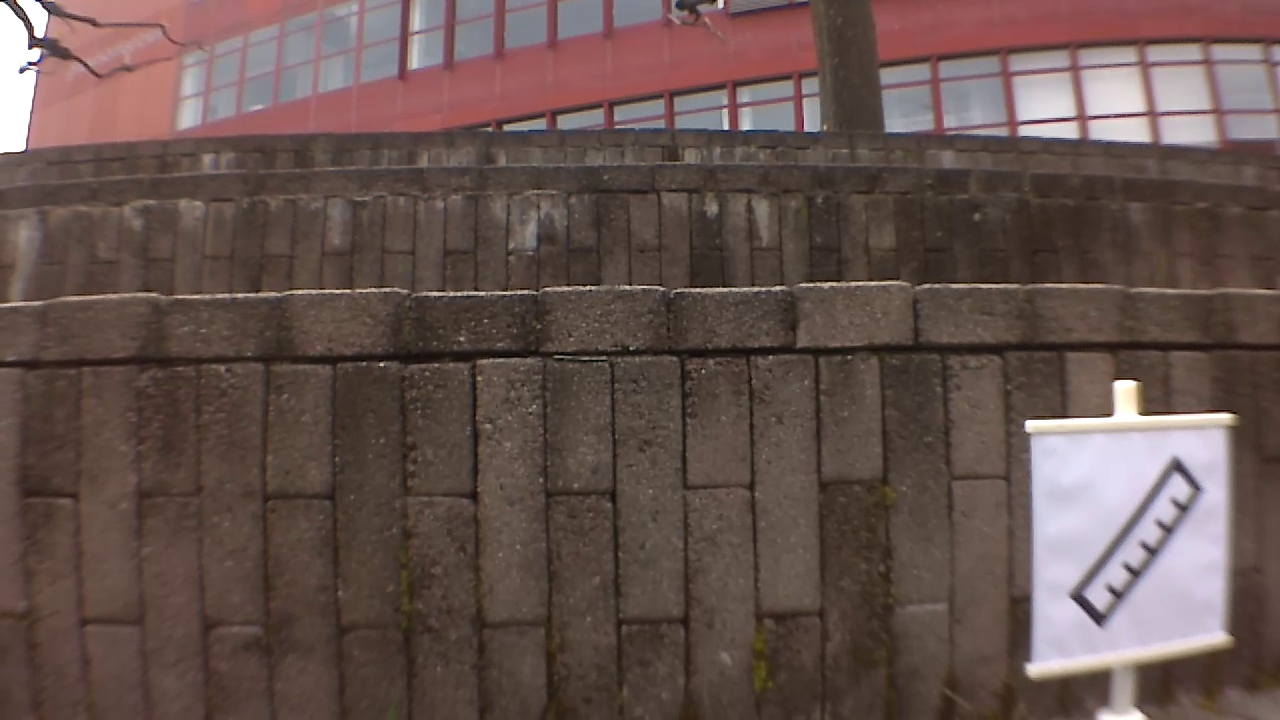ruler: (1067, 452, 1213, 630)
